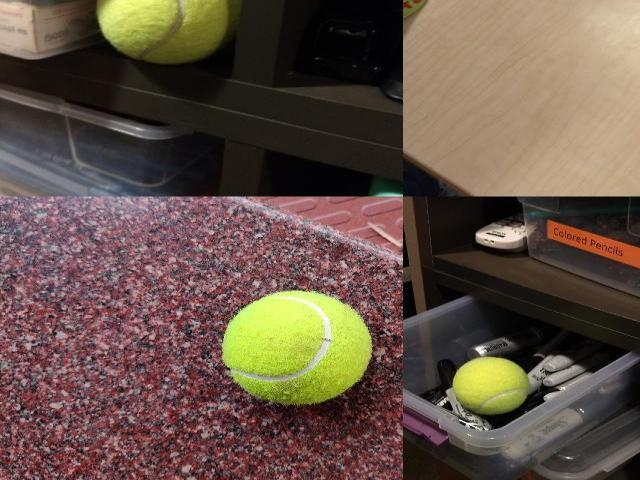tennis-ball: (223, 291, 371, 403), (94, 0, 237, 65), (452, 356, 530, 414)
